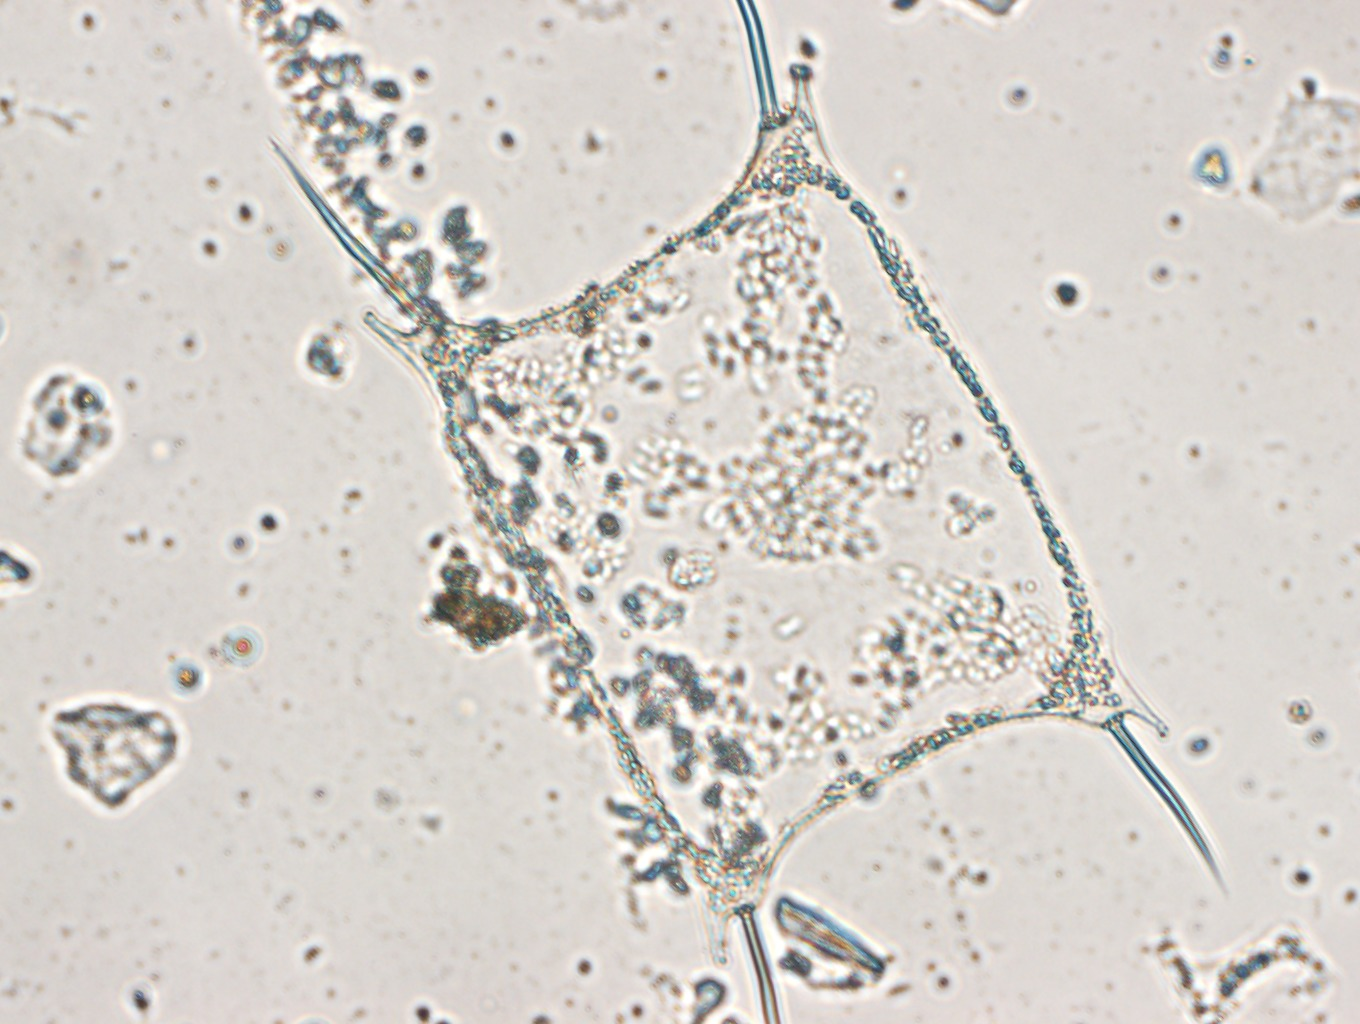biddulphia: (268, 1, 1229, 1024)
